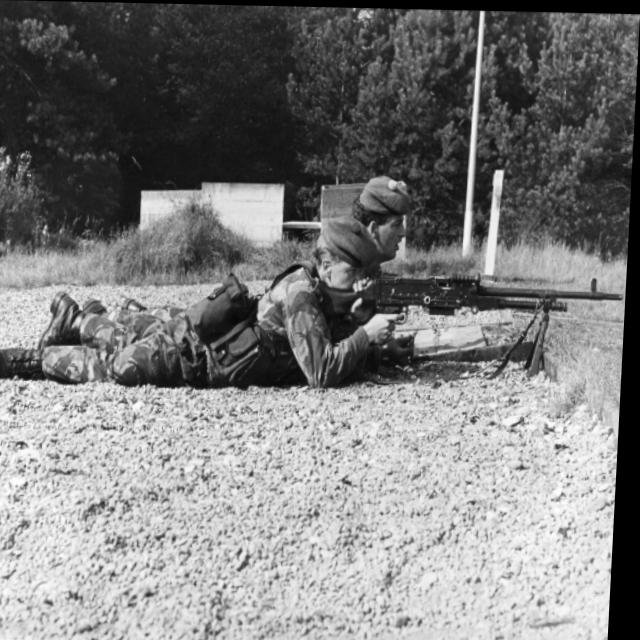other: (10, 232, 465, 388)
